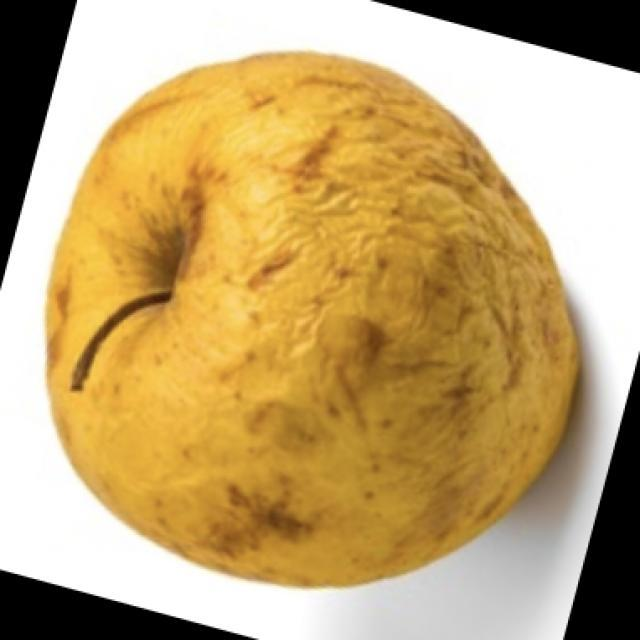Rotten: (31, 28, 576, 600)
